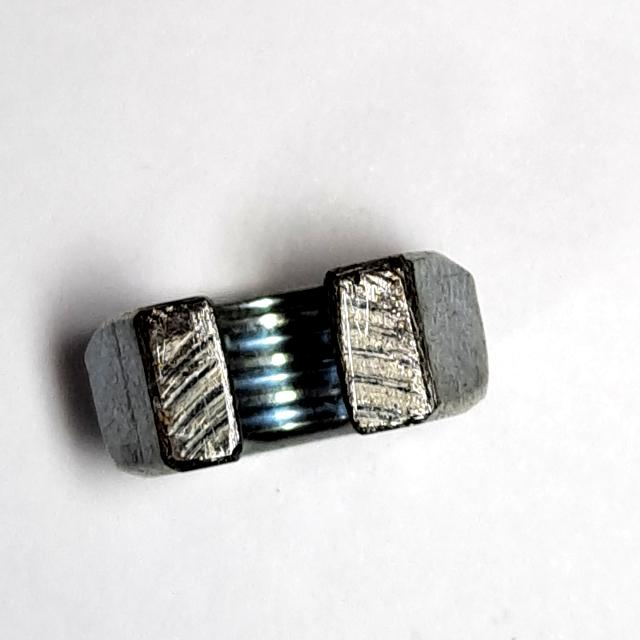Side-Fracture: (72, 235, 502, 495)
